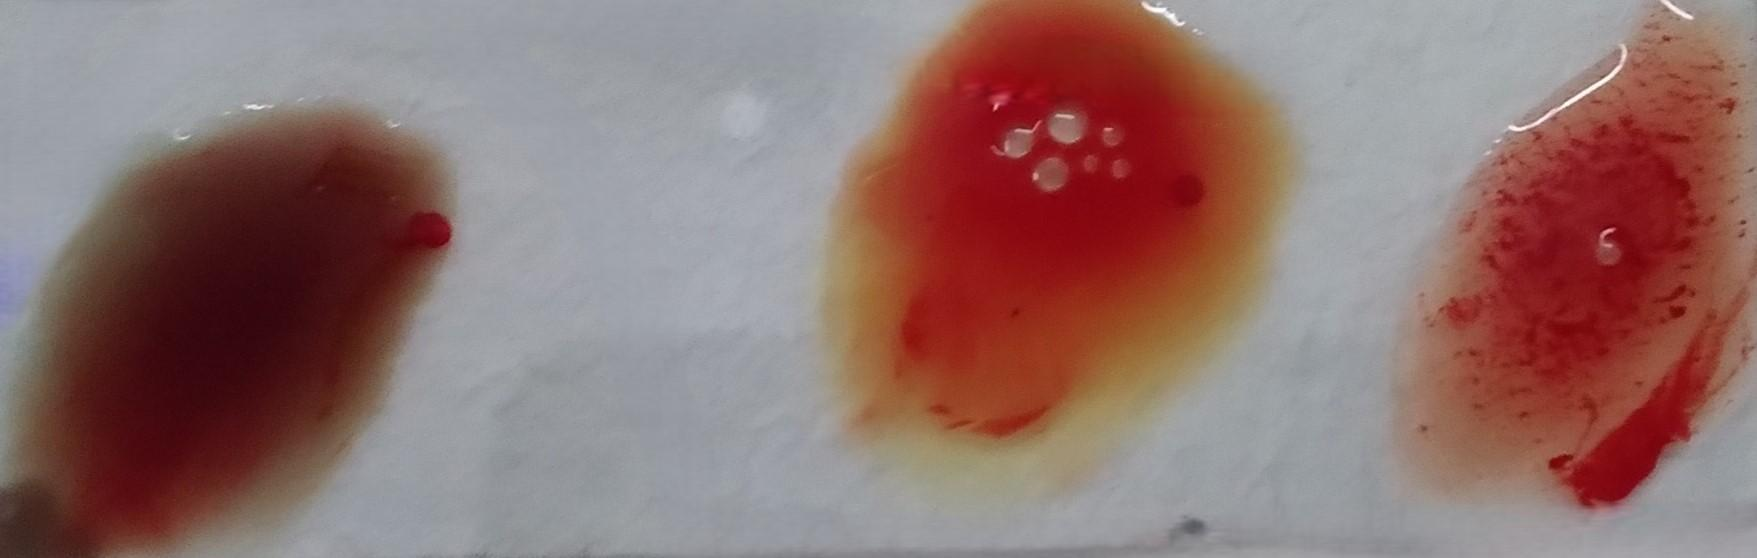D: (1414, 24, 1757, 530)
